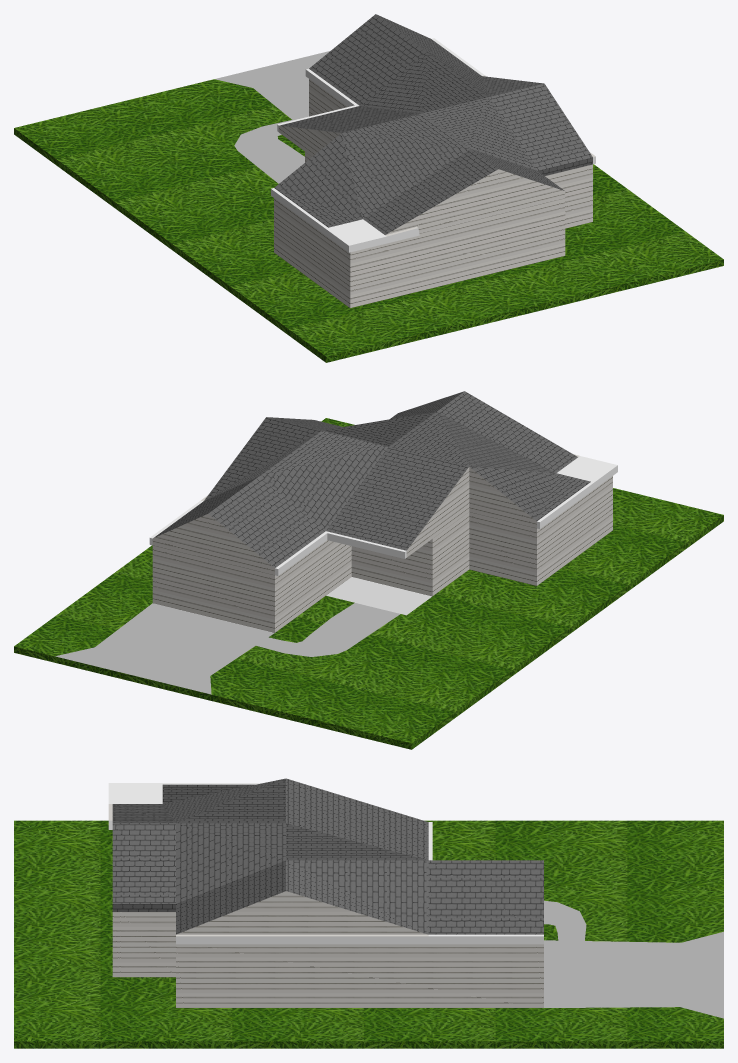
File: 1240 Santos Pl.glb
3 renders of one model, top to bottom at view 1: azimuth 30°, elevation 25°; view 2: azimuth 150°, elevation 25°; view 3: azimuth 270°, elevation 25°, orthographic. The views are drawn at different scales.
Parts seen in each view (by area): view 1: Ground, Roof, Ext Walls; view 2: Ground, Roof, Ext Walls, Floor; view 3: Ground, Roof, Ext Walls.
Boxes of the visible parts, box(x1,y1,x2,y2) form: Ground: box(14, 51, 723, 362); Roof: box(271, 14, 595, 252); Ext Walls: box(274, 79, 592, 308); Ground: box(14, 418, 723, 749); Roof: box(149, 391, 617, 575); Ext Walls: box(152, 476, 612, 632); Floor: box(326, 577, 431, 615); Ground: box(14, 820, 723, 1048); Roof: box(108, 778, 543, 944); Ext Walls: box(112, 912, 543, 1007).
Size of the model in its own units: 19.83 by 5.24 by 26.96.
5 materials, 3 textured.
